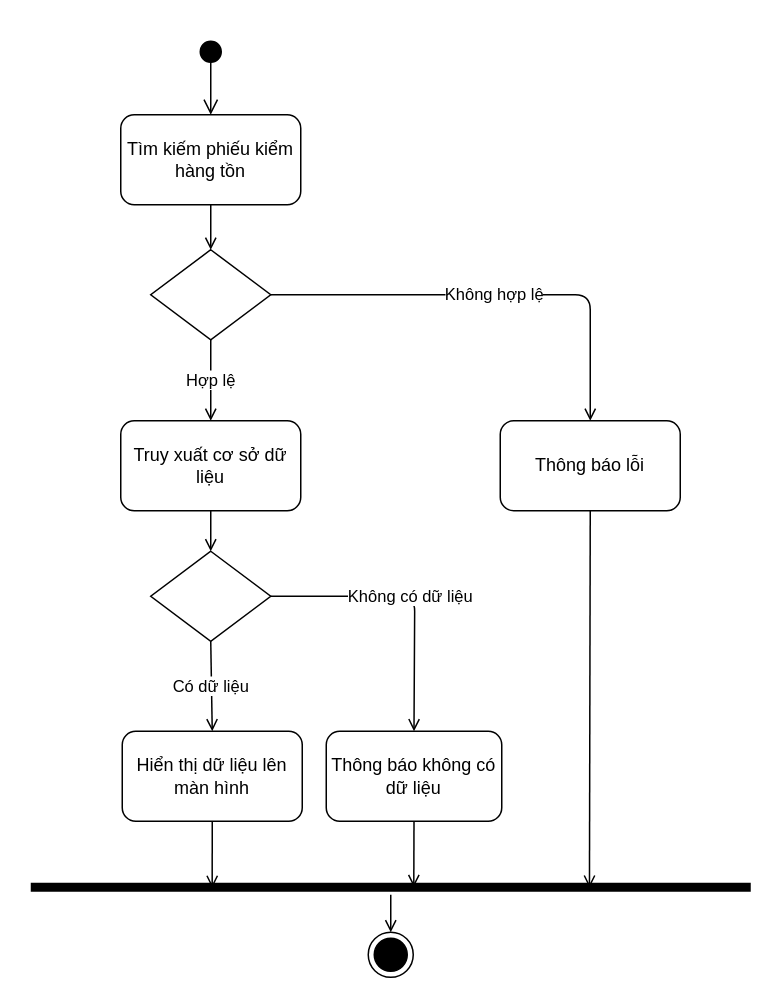
This 780x1004 diagram has some shape labels left out. Here are the shapes that lost their labels. From the top down, the centre of each, then its label:
(210,294): Kiểm tra dữ liệu
(210,595): Kết quả
